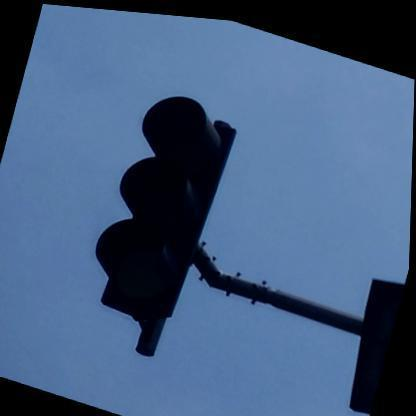green: (83, 72, 245, 334)
